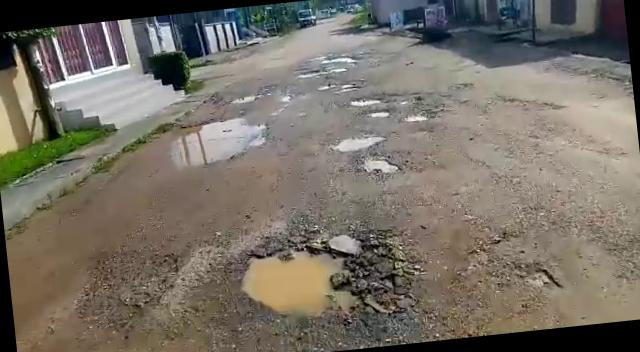pothole: (237, 231, 400, 332), (121, 118, 272, 176), (356, 148, 408, 179), (329, 130, 384, 154), (316, 80, 362, 96), (298, 66, 347, 78), (348, 94, 390, 107), (322, 52, 358, 66), (400, 111, 430, 124), (230, 94, 264, 104), (365, 108, 393, 118)
